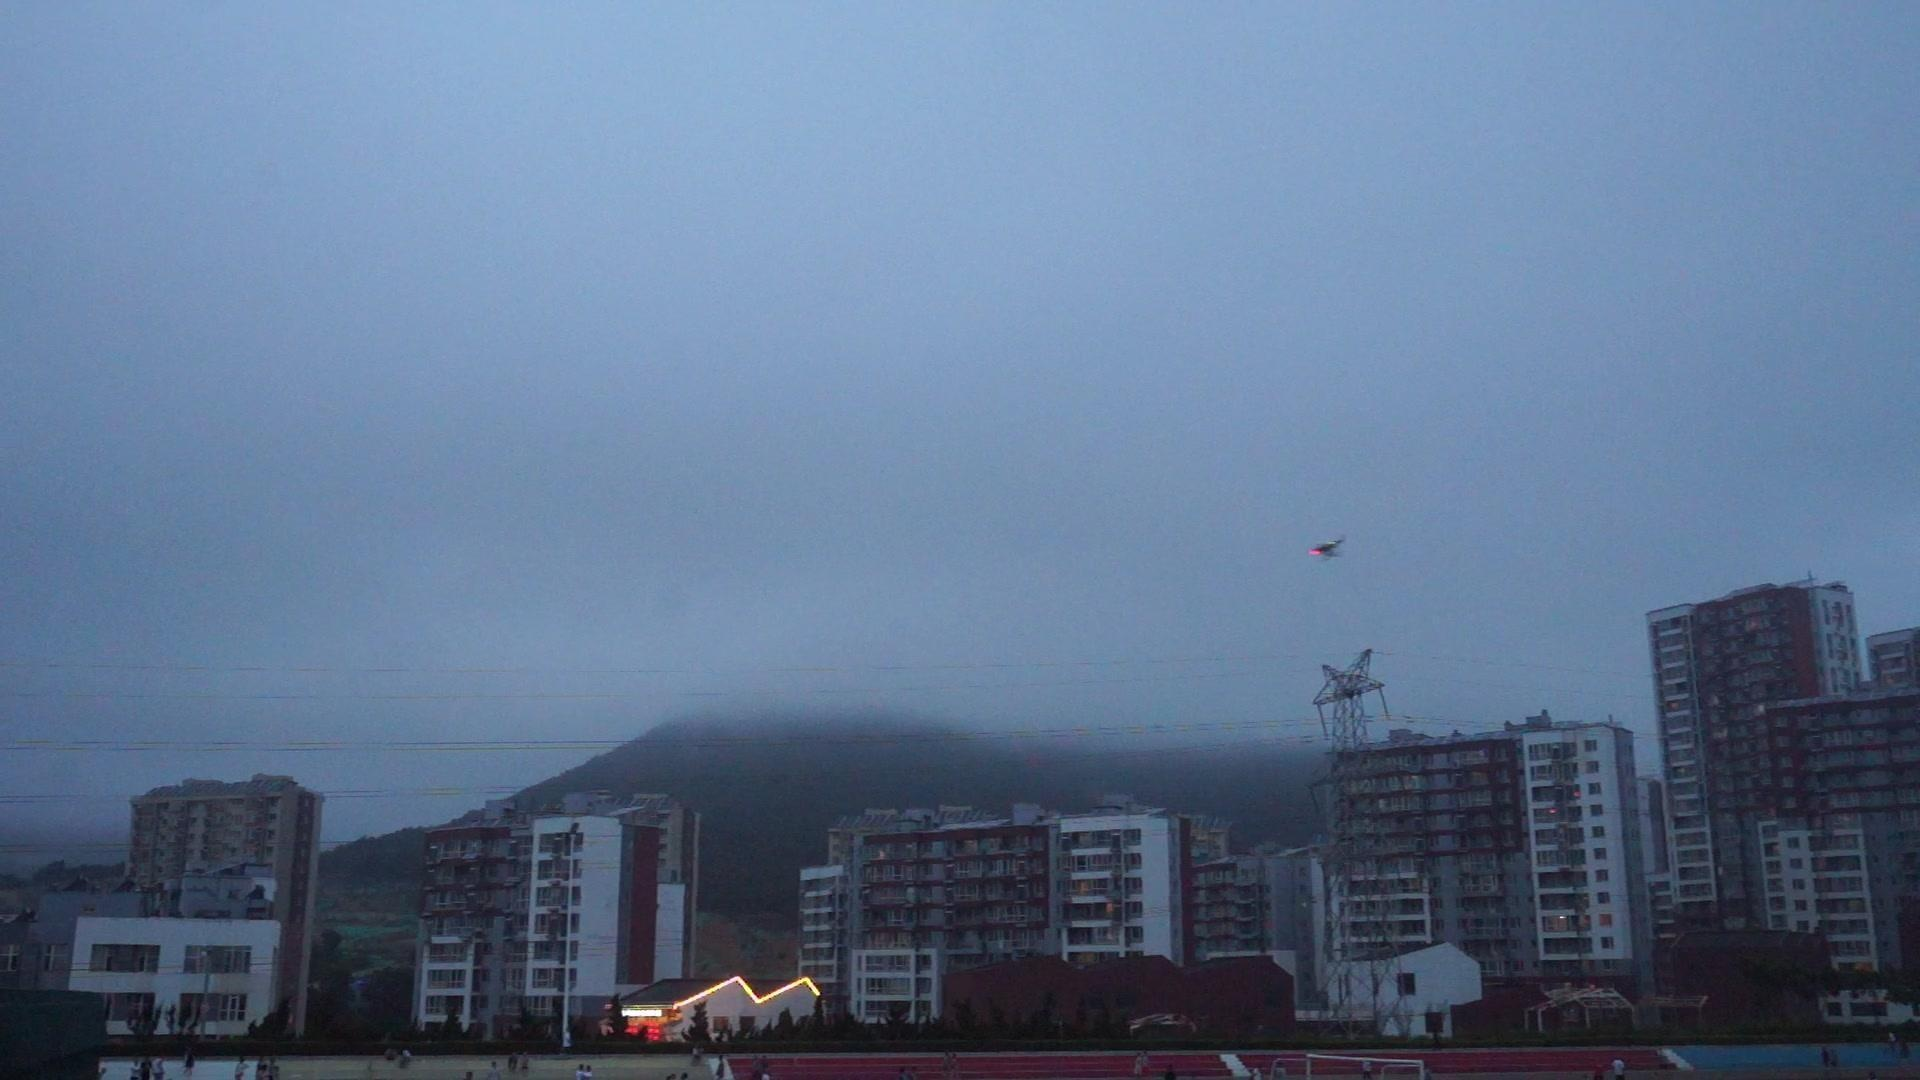UAV: (1308, 541, 1345, 560)
